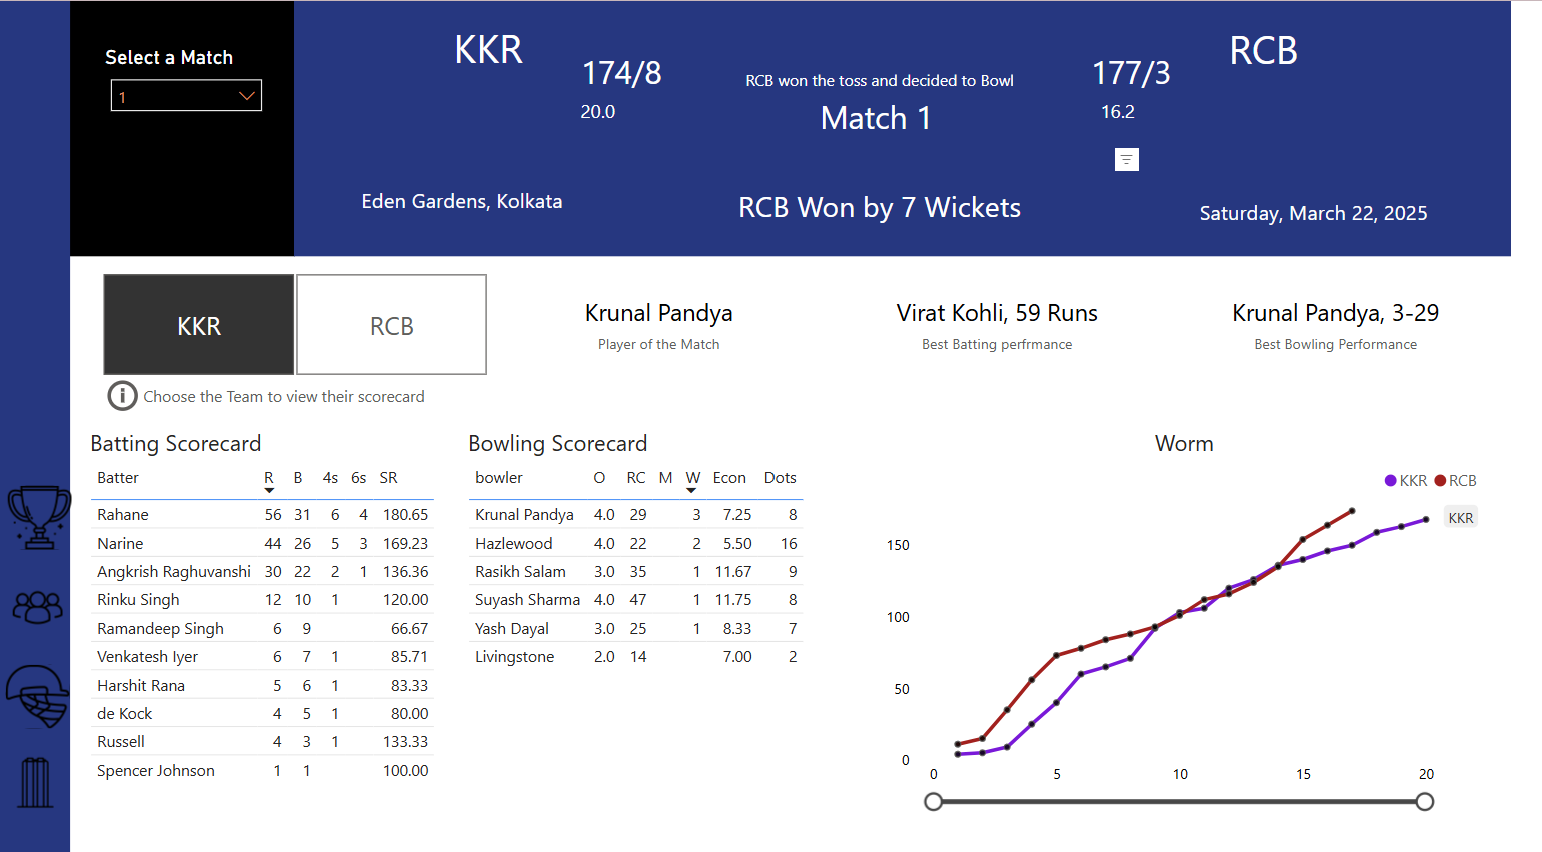

The dashboard page shown, as its layout file describes it:
{"tool":"powerbi","page":{"name":"Match-Level Insights","canvas":[1280,720],"ordinal":3},"visuals":[{"type":"shape","box":[60.6,0,189.8,216.2],"z":0},{"type":"shape","box":[0,0,61.1,720],"z":1000},{"type":"actionButton","box":[2.6,482.5,85.7,62],"z":2000},{"type":"actionButton","box":[2.6,557.6,85.7,62],"z":3000},{"type":"actionButton","box":[0,631.4,85.7,62],"z":4000},{"type":"actionButton","box":[4,406,85.7,62],"z":5000},{"type":"slicer","fields":{"Values":["SubmenuHelper.2"]},"box":[63.6,223.9,374.3,98.5],"z":6000},{"type":"tableEx","title":"Batting Scorecard","fields":{"Values":["ipl_2025_deliveries.striker","MatchesMeasures.R","MatchesMeasures.B","MatchesMeasures.4s","MatchesMeasures.6s","MatchesMeasures.SR"]},"box":[72.6,360.6,320.3,344.4],"z":7000},{"type":"tableEx","title":"Bowling Scorecard","fields":{"Values":["ipl_2025_deliveries.bowler","MatchesMeasures.O1","MatchesMeasures.O","MatchesMeasures.M","MatchesMeasures.W","MatchesMeasures.Econ","MatchesMeasures.Dots"]},"box":[392.8,360.6,334.1,246.5],"z":8000},{"type":"shape","box":[250.5,0,1029.5,216.2],"z":9000},{"type":"slicer","title":"Select a Match","fields":{"Values":["TopMenuHelper.Category"]},"box":[85.7,36.9,147.6,80.4],"z":10000},{"type":"card","fields":{"Values":["Min(Matches.team1)"]},"box":[369.4,0,90,80],"z":11000},{"type":"card","fields":{"Values":["Min(Matches.team2)"]},"box":[1025.6,0,89.1,81],"z":12000},{"type":"card","fields":{"Values":["Min(Matches.1st_Innings)"]},"box":[471.9,33,110,55],"z":13000},{"type":"card","fields":{"Values":["Min(Matches.2nd Innings)"]},"box":[903,33,110,55],"z":14000},{"type":"card","fields":{"Values":["Min(Matches.Match no)"]},"box":[660,59.3,165,80],"z":15000},{"type":"card","fields":{"Values":["Sum(Matches.1st_Innings_Overs)"]},"box":[479.8,72.5,55.4,44.8],"z":16000},{"type":"card","fields":{"Values":["Sum(Matches.2nd_Innings_Overs)"]},"box":[918.8,72.5,55.4,44.8],"z":17000},{"type":"card","fields":{"Values":["Min(Matches.venue)"]},"box":[291.3,117.3,203,105.5],"z":18000},{"type":"card","fields":{"Values":["Min(Matches.date)"]},"box":[996.5,156,231.5,49.5],"z":19000},{"type":"card","fields":{"Values":["Min(Matches.Match Result)"]},"box":[525.3,145,440.3,60.6],"z":20000},{"type":"lineChart","title":"Worm","fields":{"Category":["ipl_2025_deliveries.Over_Number"],"Y":["MatchesMeasures.Cumulative Runs"],"Series":["ipl_2025_deliveries.batting_team"]},"box":[745.2,360.2,515,328],"z":21000},{"type":"card","fields":{"Values":["Min(Matches.Toss)"]},"box":[569.5,54,352,23.7],"z":22000},{"type":"card","fields":{"Values":["Min(Matches.player_of_the_match)"]},"box":[419.1,228.4,280.3,88.7],"z":23000},{"type":"card","fields":{"Values":["Min(Matches.Best Bowler)"]},"box":[990.4,228.4,280.3,88.7],"z":24000},{"type":"card","fields":{"Values":["Min(Matches.Top Scorer)"]},"box":[704.3,228.4,281.2,88.7],"z":25000},{"type":"actionButton","box":[88.3,316.4,304.5,35],"z":25001}]}

Visuals, with their boxes in screenshot pixels (x1, y1, x2, y2), scaled from the page's 1280x720 canvas onto the 1542x852 screenshot:
shape: [73, 0, 302, 256]
shape: [0, 0, 74, 851]
actionButton: [3, 571, 106, 644]
actionButton: [3, 660, 106, 733]
actionButton: [0, 747, 103, 821]
actionButton: [5, 480, 108, 554]
slicer - SubmenuHelper.2: [77, 265, 528, 382]
"Batting Scorecard" tableEx: [87, 427, 473, 834]
"Bowling Scorecard" tableEx: [473, 427, 876, 718]
shape: [302, 0, 1541, 256]
"Select a Match" slicer: [103, 44, 281, 139]
card - Min(Matches.team1): [445, 0, 553, 95]
card - Min(Matches.team2): [1236, 0, 1343, 96]
card - Min(Matches.1st_Innings): [568, 39, 701, 104]
card - Min(Matches.2nd Innings): [1088, 39, 1220, 104]
card - Min(Matches.Match no): [795, 70, 994, 165]
card - Sum(Matches.1st_Innings_Overs): [578, 86, 645, 139]
card - Sum(Matches.2nd_Innings_Overs): [1107, 86, 1174, 139]
card - Min(Matches.venue): [351, 139, 595, 264]
card - Min(Matches.date): [1200, 185, 1479, 243]
card - Min(Matches.Match Result): [633, 172, 1163, 243]
"Worm" lineChart: [898, 426, 1518, 814]
card - Min(Matches.Toss): [686, 64, 1110, 92]
card - Min(Matches.player_of_the_match): [505, 270, 843, 375]
card - Min(Matches.Best Bowler): [1193, 270, 1531, 375]
card - Min(Matches.Top Scorer): [848, 270, 1187, 375]
actionButton: [106, 374, 473, 416]
